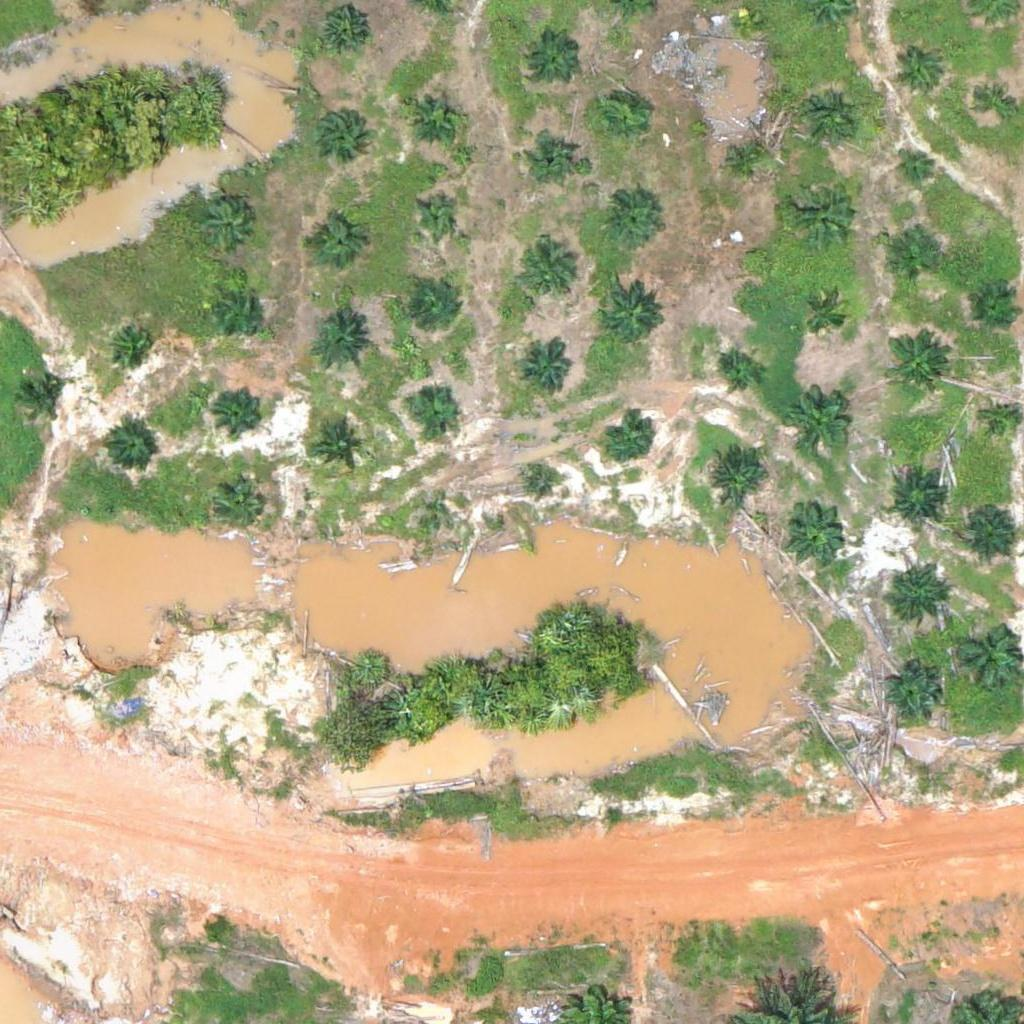Kelapa_Sawit: (787, 170, 862, 246), (948, 619, 1023, 695), (784, 390, 847, 453), (309, 313, 372, 376), (881, 567, 944, 630), (780, 499, 843, 562), (880, 664, 943, 727), (883, 331, 945, 394), (600, 279, 662, 342), (518, 242, 580, 305), (798, 87, 860, 150), (597, 189, 659, 252), (404, 84, 466, 147), (703, 444, 765, 507), (888, 469, 950, 531), (955, 497, 1017, 559), (407, 380, 457, 431), (411, 281, 461, 332), (309, 218, 359, 269), (203, 203, 253, 254), (214, 286, 264, 337), (214, 384, 264, 435), (314, 423, 364, 474), (317, 5, 367, 56), (522, 346, 572, 396), (603, 413, 653, 463), (529, 130, 579, 180), (528, 34, 578, 84), (882, 237, 932, 287), (595, 90, 645, 140), (314, 108, 364, 158), (105, 424, 155, 474), (968, 284, 1018, 334), (799, 293, 849, 343), (714, 350, 764, 400), (722, 133, 772, 183), (216, 485, 266, 535), (108, 320, 158, 370), (17, 376, 67, 426), (894, 46, 944, 96), (984, 405, 1022, 443), (897, 148, 935, 186), (978, 84, 1016, 122), (417, 197, 454, 235), (528, 466, 553, 491), (731, 8, 756, 33), (738, 243, 763, 268), (433, 500, 458, 525)
